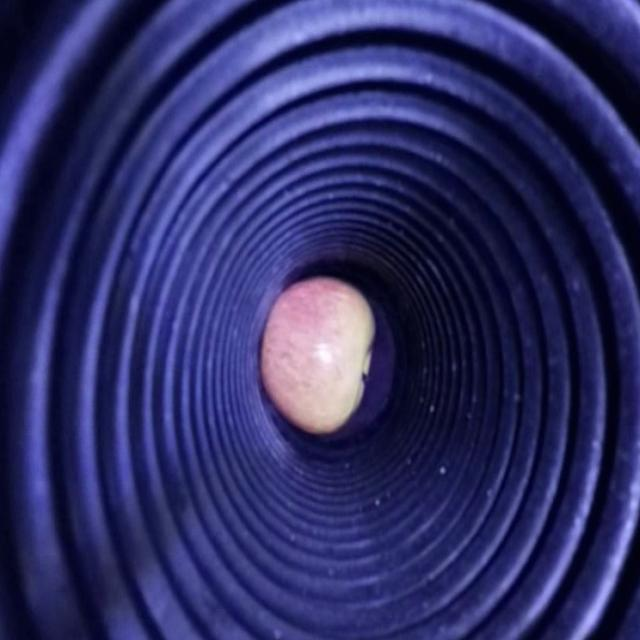obstacles: (261, 277, 374, 435)
